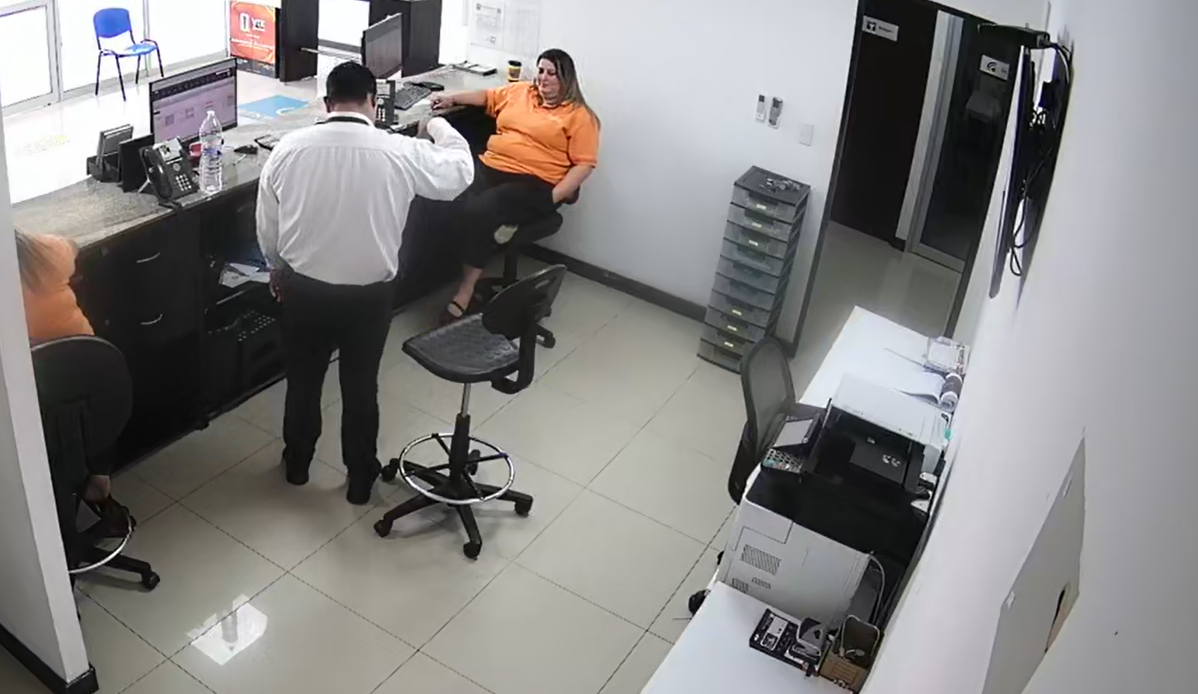situacion_atipica: (231, 20, 481, 563)
